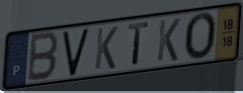B: (25, 30, 61, 84)
K: (155, 17, 182, 63), (93, 25, 120, 71)
O: (183, 11, 218, 63)
T: (127, 21, 151, 68)
V: (62, 26, 91, 79)
